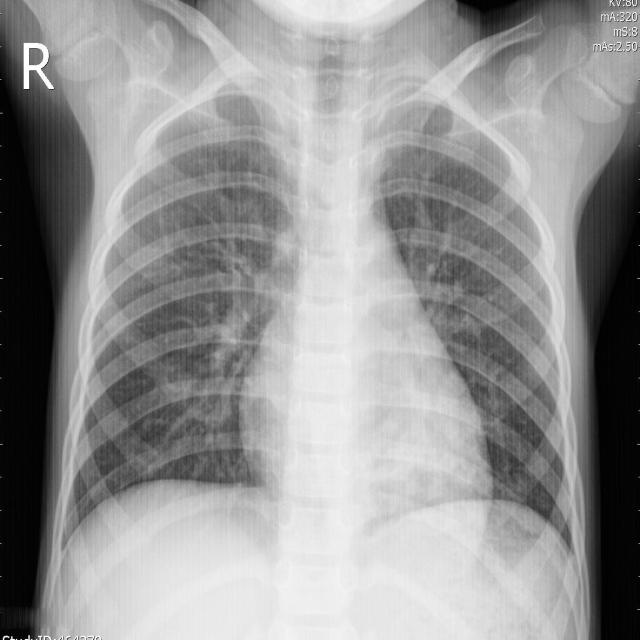no-pneumonia: (55, 95, 288, 565), (380, 101, 573, 538)
